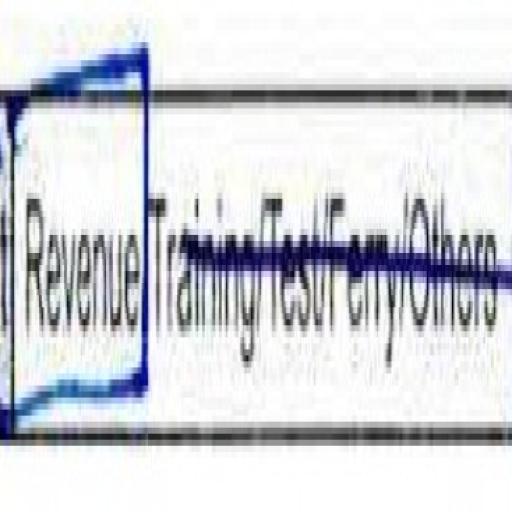check: (0, 0, 148, 505)
